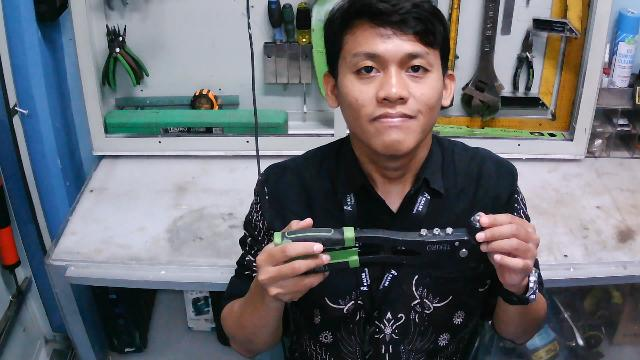tang_rivet: (269, 214, 501, 271)
